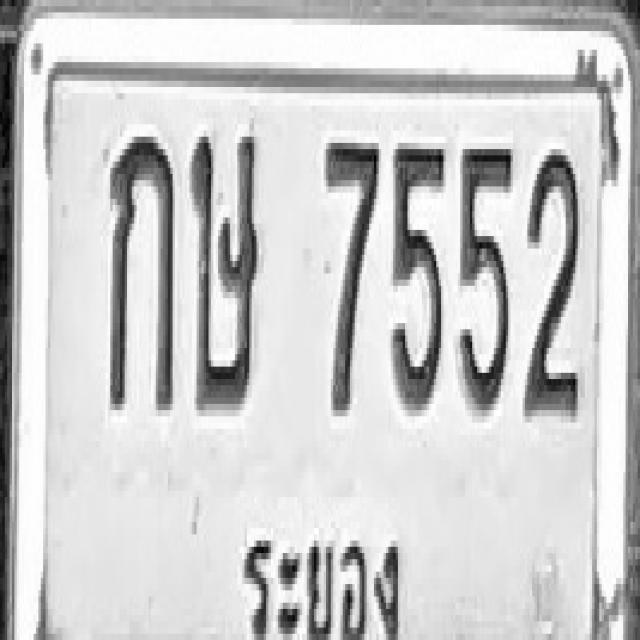10GorGai: (108, 131, 175, 410)
2: (524, 149, 579, 416)
48SorRueSi: (188, 131, 260, 410)
5: (391, 140, 446, 413), (458, 143, 513, 416)
7: (324, 137, 378, 416)
Rayong: (241, 499, 412, 640)
